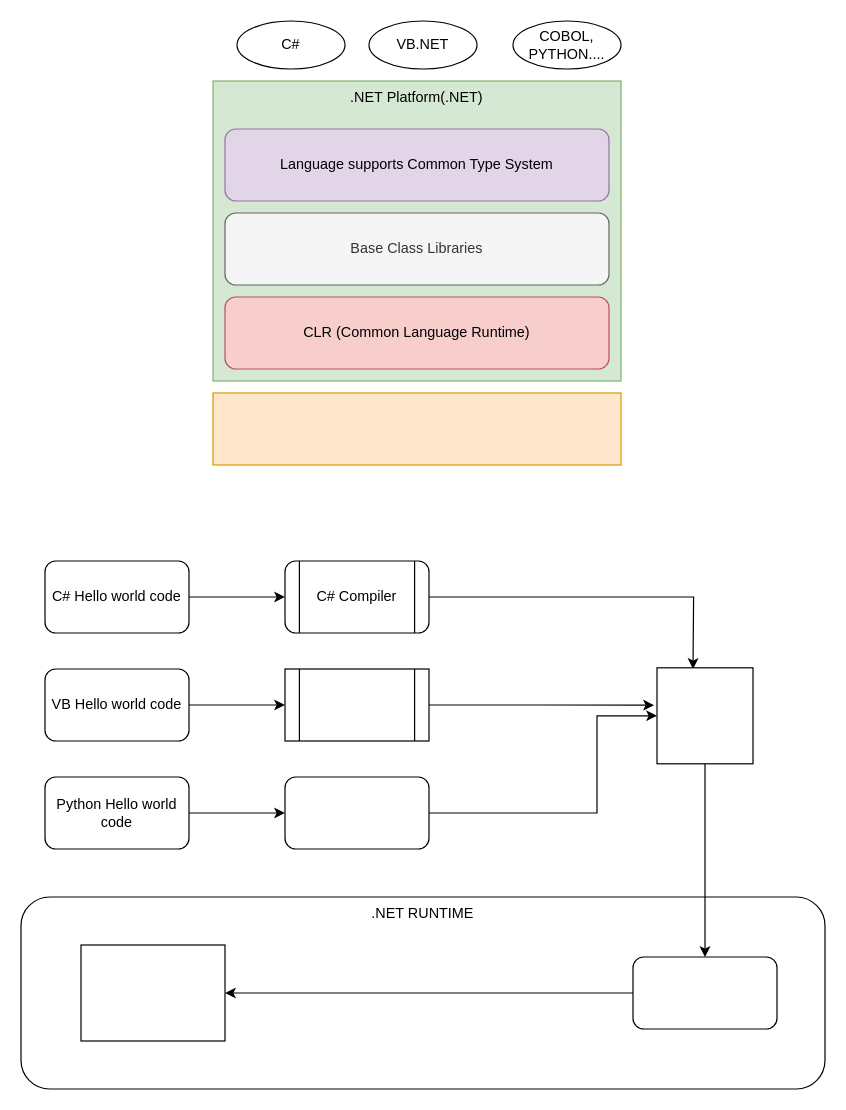
The diagram is 846 pixels wide and 1110 high, and some of its shapes have lost their labels. The shapes that lost their labels are listed below. From the top down, each one's centre as x and y in pixels, then its label:
[416,428]: Operating System (Windows, Linux, Mac)
[356,704]: VB.NET Compiler
[704,715]: IL CODE (Assembly) EXE or DLL
[356,812]: Python compiler
[152,992]: Native CODE (CODE OPTIMIZED TO RUN ON THIS MACHINE)
[704,992]: Just In Time compiler
